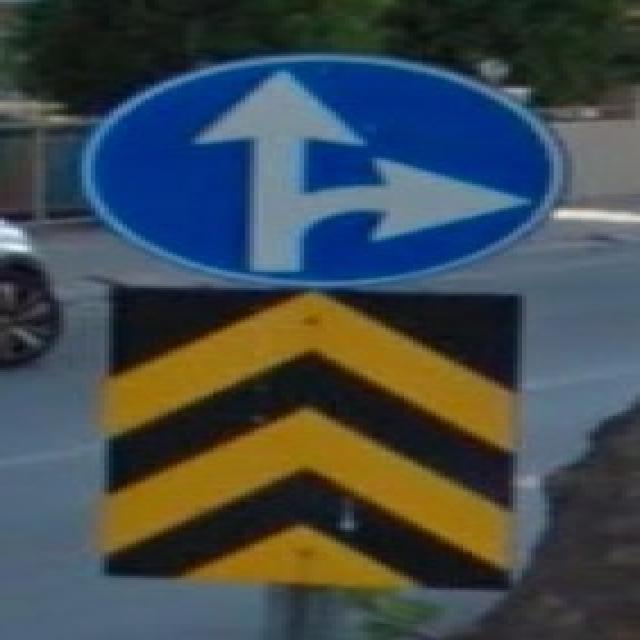Straight or Right: (83, 56, 541, 276)
